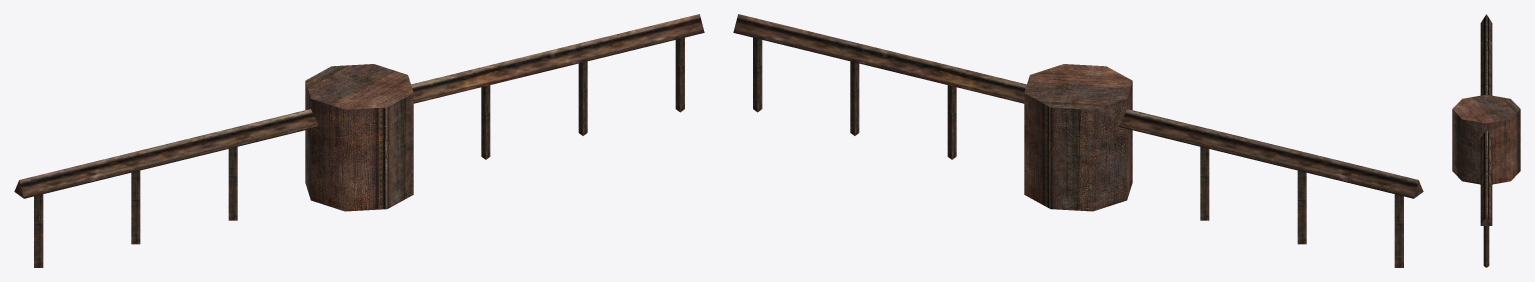
File: stirtank_mixbar.fbx
3 renders of one model, left to right at view 1: azimuth 30°, elevation 25°; view 2: azimuth 150°, elevation 25°; view 3: azimuth 270°, elevation 25°, orthographic. The views are drawn at different scales.
Visible parts, largest first — view 1: mesh_0; view 2: mesh_0; view 3: mesh_0.
Part boxes in pixels (box(x1,y1,x2,y2)): mesh_0: box(14, 14, 704, 267); mesh_0: box(733, 14, 1423, 267); mesh_0: box(1452, 14, 1520, 267).
Size of the model in its own units: 700 by 100 by 100.
1 material, 1 textured.
